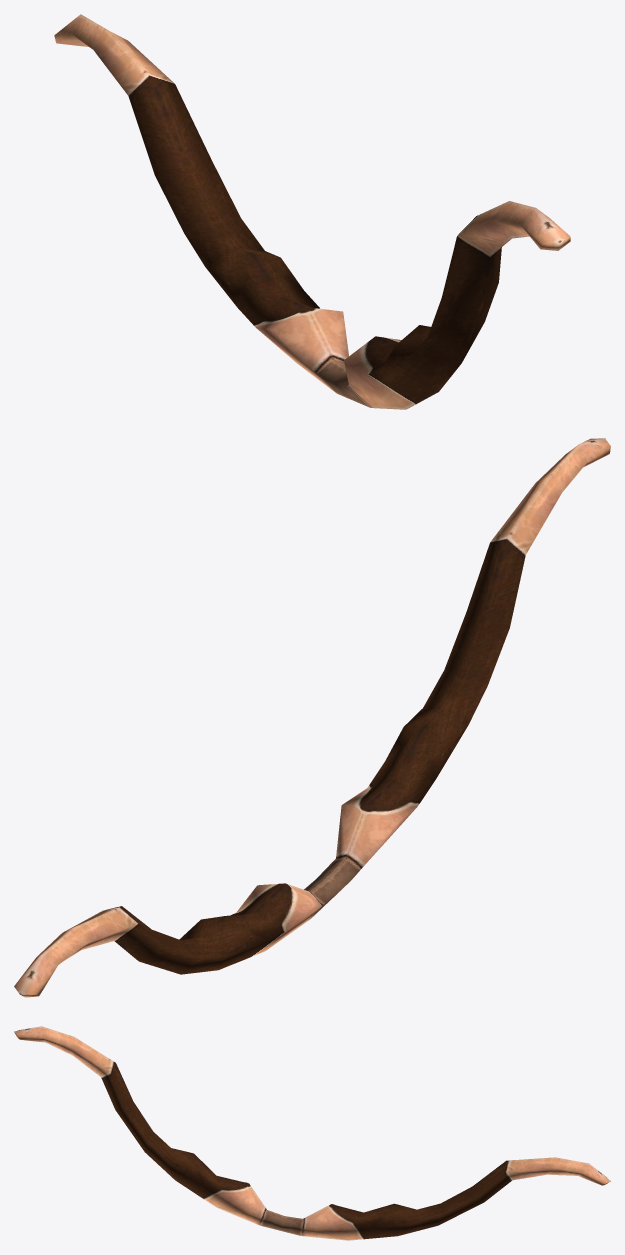
Rendered from rangedweapon-copperweapons.glb.
The picture shows the model from 3 angles, top to bottom: view 1: azimuth 30°, elevation 25°; view 2: azimuth 150°, elevation 25°; view 3: azimuth 270°, elevation 25°; orthographic projection. The views are drawn at different scales.
Size of the model in its own units: 0.1807 by 0.5395 by 1.47.
1 material, 1 textured.
